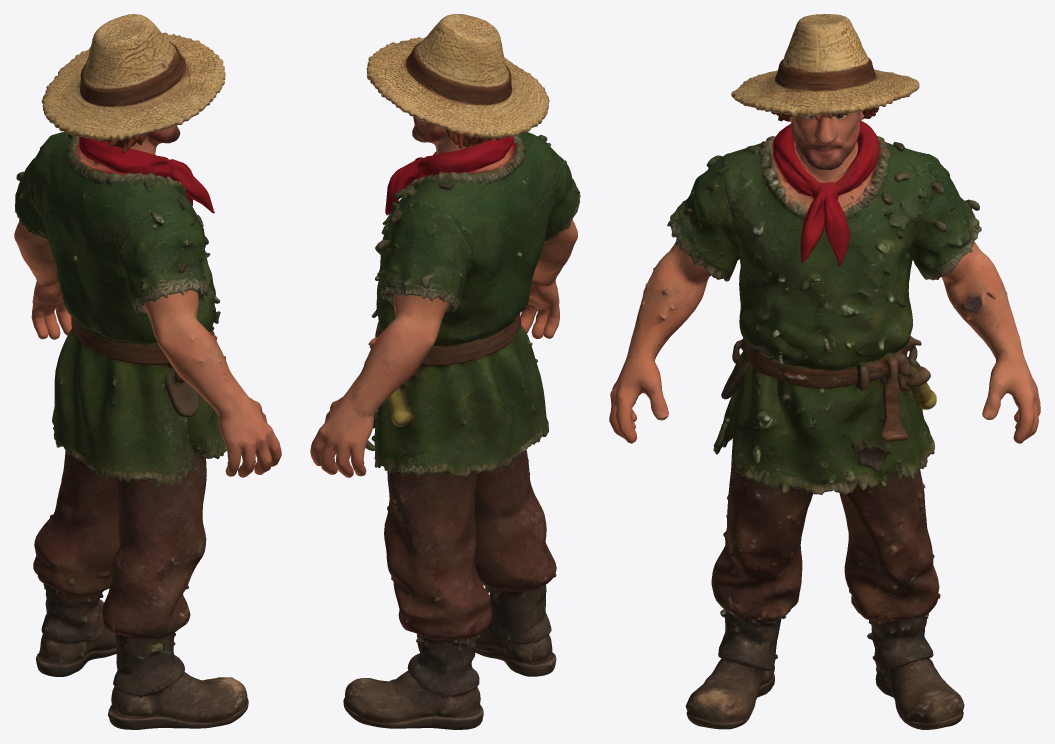
3 renders of one model, left to right at view 1: azimuth 30°, elevation 25°; view 2: azimuth 150°, elevation 25°; view 3: azimuth 270°, elevation 25°, orthographic. The views are drawn at different scales.
Parts seen in each view (by area): view 1: tripo_node_4fbba71f-0578-41a6-a6c2-f919de2bda42; view 2: tripo_node_4fbba71f-0578-41a6-a6c2-f919de2bda42; view 3: tripo_node_4fbba71f-0578-41a6-a6c2-f919de2bda42.
Part boxes in pixels (box(x1,y1,x2,y2)): tripo_node_4fbba71f-0578-41a6-a6c2-f919de2bda42: box(14, 14, 281, 729); tripo_node_4fbba71f-0578-41a6-a6c2-f919de2bda42: box(310, 14, 580, 729); tripo_node_4fbba71f-0578-41a6-a6c2-f919de2bda42: box(609, 14, 1040, 729).
Size of the model in its own units: 0.2484 by 1 by 0.5675.
Materials: 1 (1 with a texture image).
